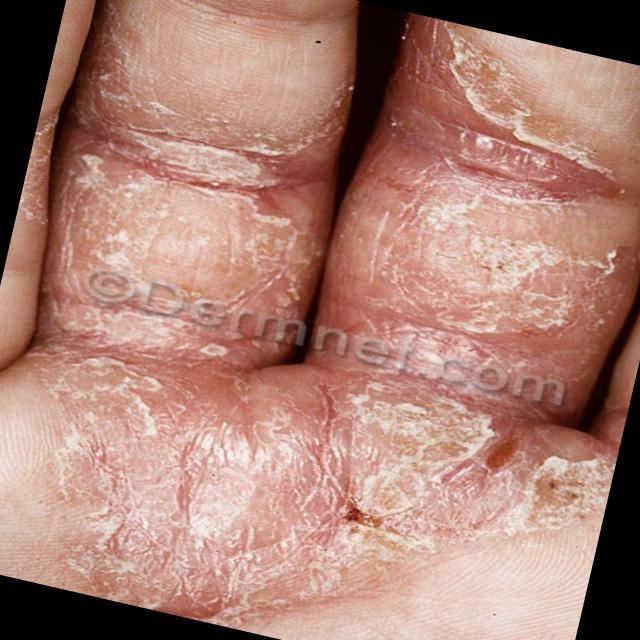Eczema: (42, 29, 608, 640)
